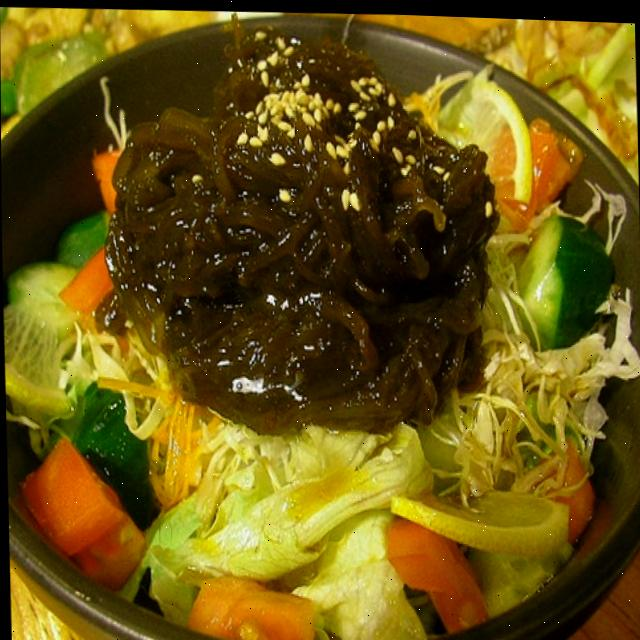蔬菜料理: (8, 2, 631, 640)
